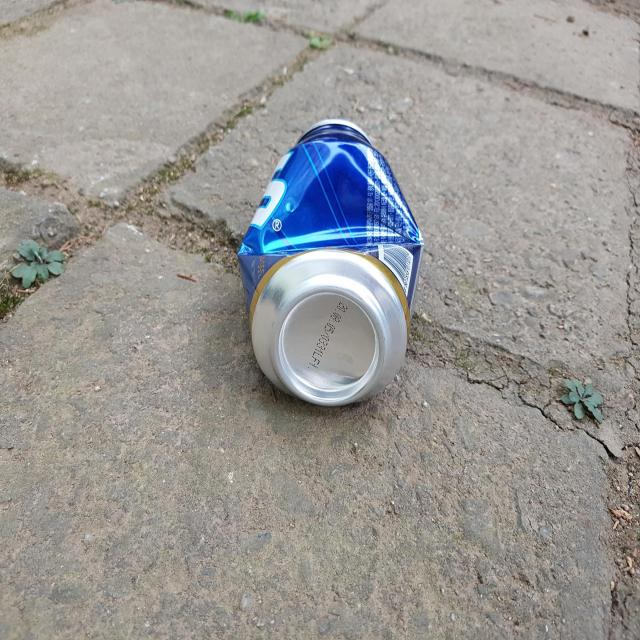can: (238, 118, 424, 406)
